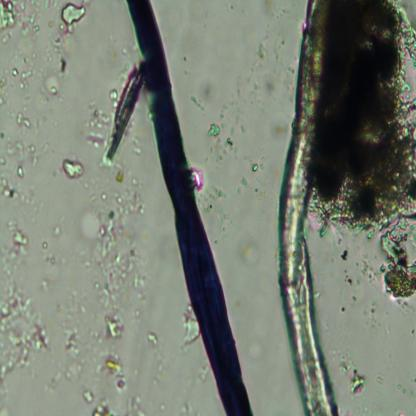Background material: (302, 0, 416, 234), (84, 168, 145, 312), (0, 277, 49, 386), (0, 53, 63, 129), (53, 271, 94, 387), (107, 60, 144, 170), (374, 212, 416, 306), (0, 132, 39, 207), (47, 0, 86, 72), (245, 36, 280, 100), (0, 0, 44, 39), (94, 346, 130, 393), (80, 96, 114, 144), (0, 216, 27, 274), (338, 361, 376, 395), (210, 120, 238, 166), (175, 296, 199, 348), (184, 77, 218, 112), (57, 156, 86, 182), (350, 254, 378, 280), (200, 187, 225, 211), (104, 316, 125, 342), (266, 118, 288, 142), (240, 242, 260, 267), (92, 399, 121, 416), (126, 395, 149, 416), (214, 212, 231, 235), (195, 360, 208, 388), (259, 0, 276, 17), (144, 331, 161, 346), (341, 266, 352, 288), (48, 221, 60, 240), (152, 360, 162, 382), (183, 403, 198, 416), (338, 245, 349, 261), (44, 256, 57, 267), (81, 392, 95, 402), (249, 159, 258, 173), (368, 304, 378, 314), (240, 176, 248, 188), (41, 240, 48, 252), (235, 187, 242, 195), (342, 304, 346, 312)
Cellulose filter fibre: (278, 0, 335, 416)
Cotton: (125, 0, 254, 416)
